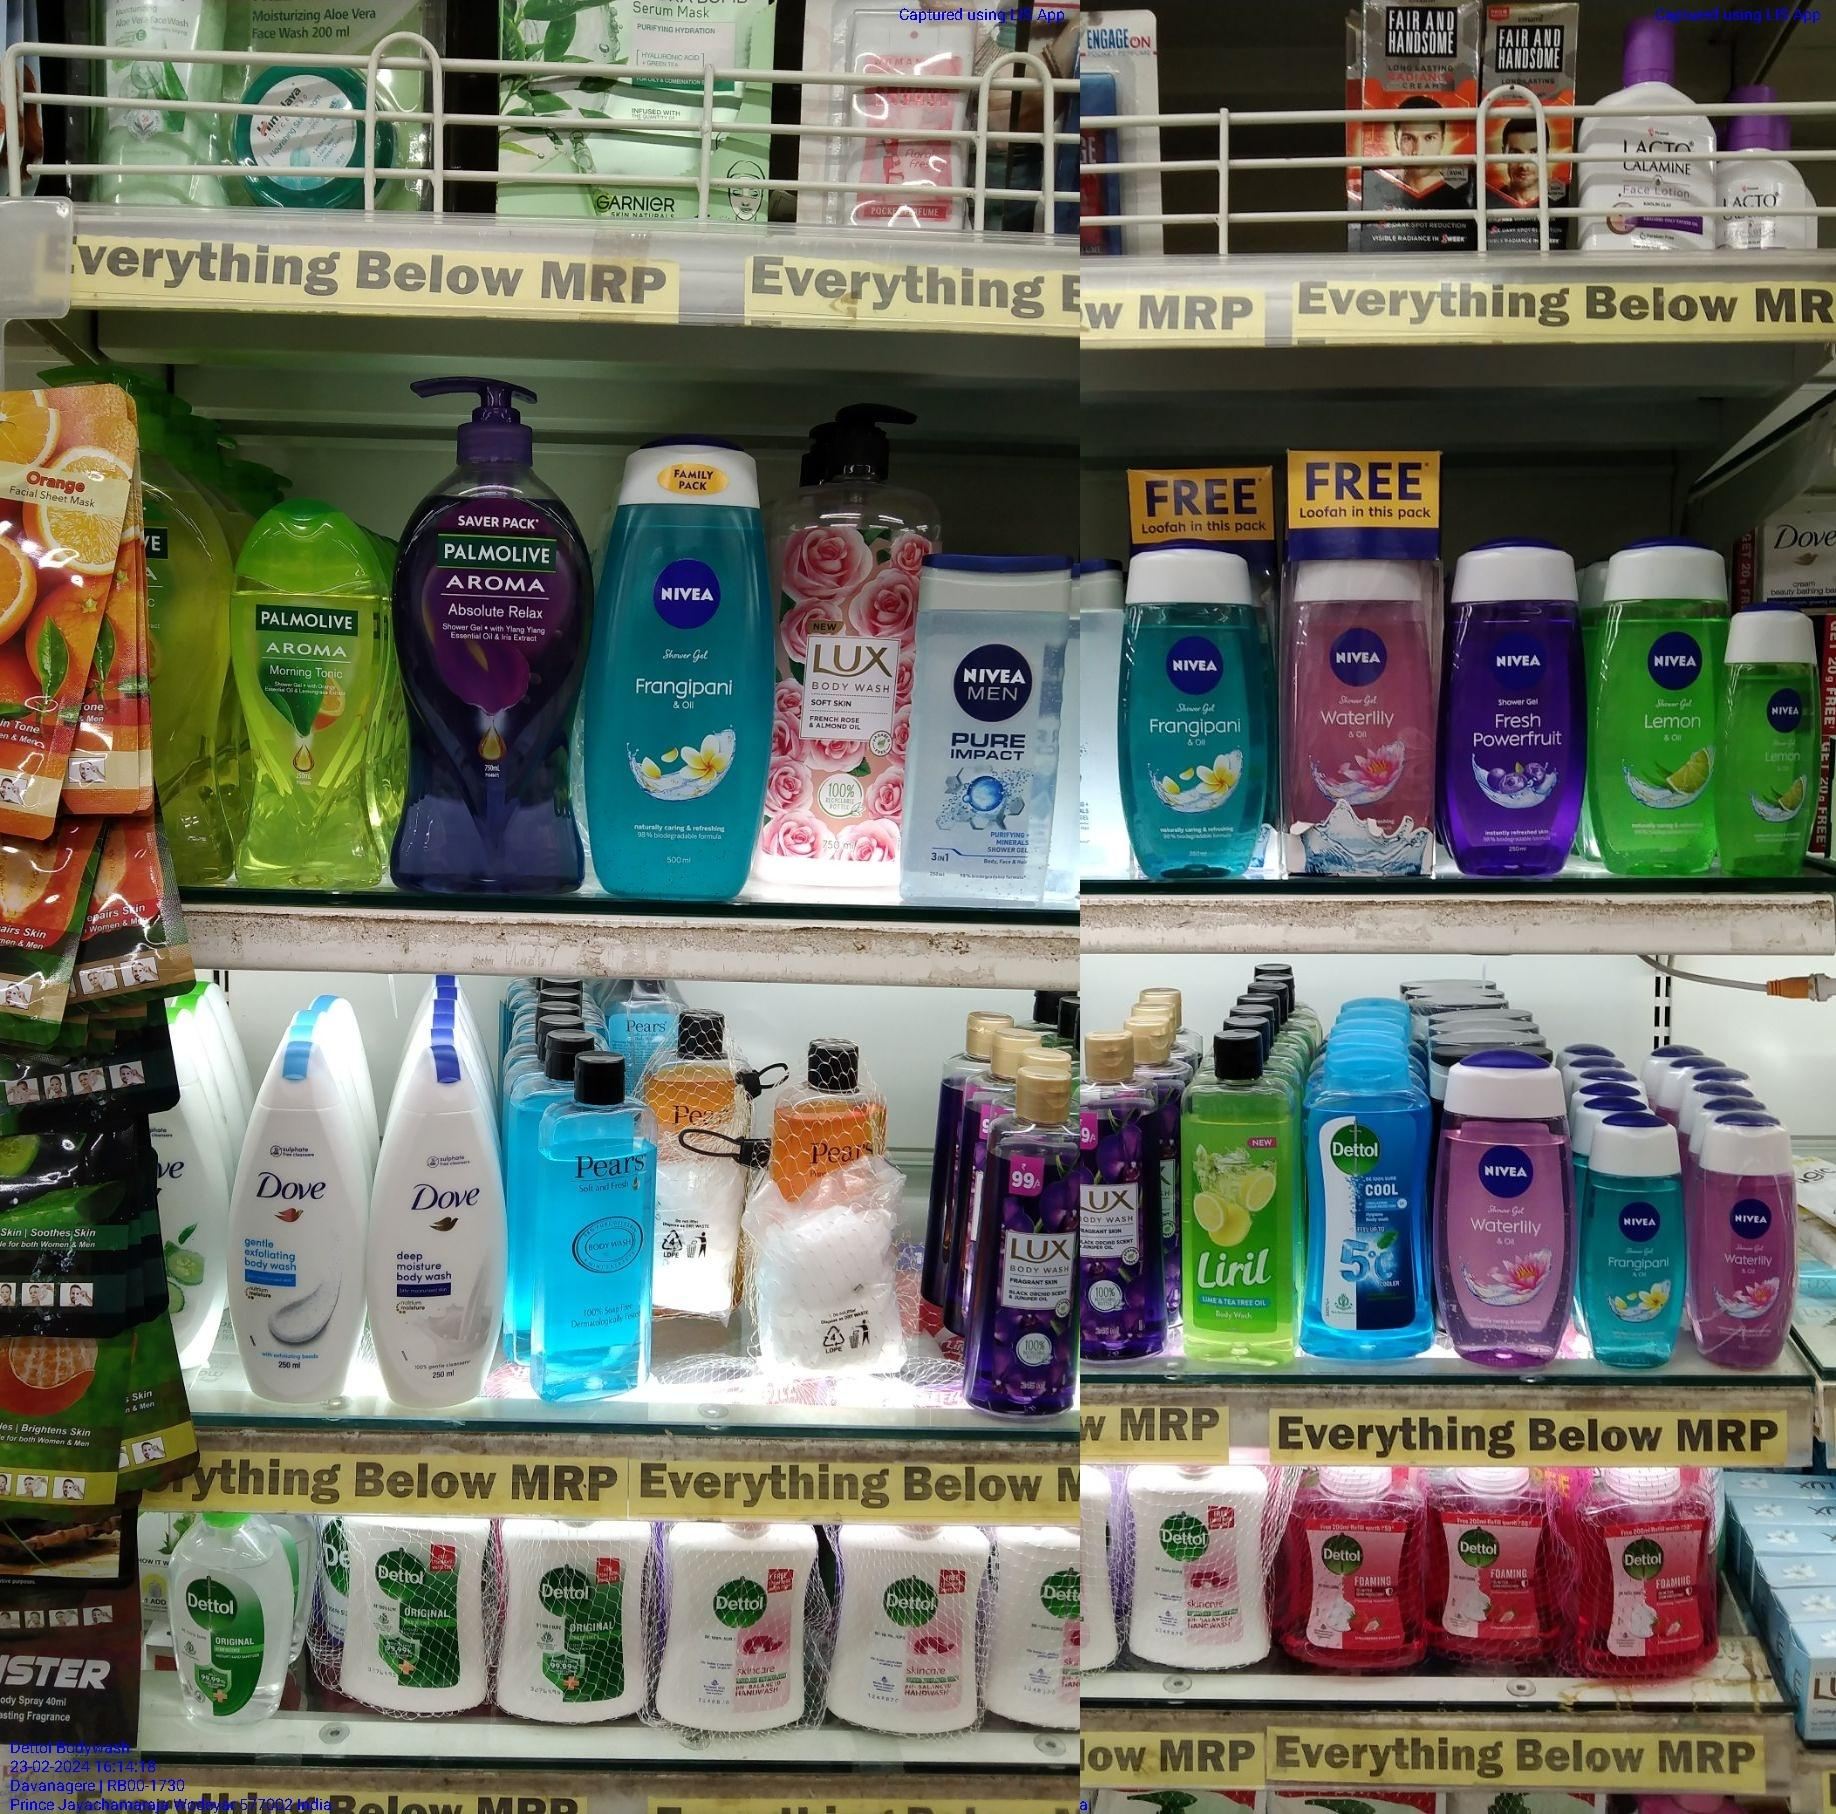Dettol_Bodywash_Cool: (1304, 1065, 1434, 1360)
Dove_Deep_Moisture_Body_Wash_250ML: (374, 1061, 503, 1405)
Dove_Gentle_Exfoliating_Body_Wash_250ML: (234, 1053, 364, 1405)
Liril_Lime_and_Tea_Tree_Oil_Body_Wash_250ML: (1181, 1038, 1303, 1364)
Lux_Black_Orchid_Scent_and_Juniper_Oil_Body_Wash_245ML: (972, 1081, 1087, 1424)
Nivea_Shower_Gel_Frangipani_and_Oil_250ML: (590, 449, 768, 899), (1120, 552, 1269, 882), (1583, 1131, 1686, 1369)
Nivea_Shower_Gel_Fresh_Powerfruit_250ML: (1444, 547, 1588, 879)
Nivea_Shower_Gel_Lemon_and_Oil_250ML: (1597, 548, 1721, 869), (1730, 611, 1818, 874)
Nivea_Shower_Gel_Waterlily_and_Oil_250ML: (1284, 552, 1436, 879), (1437, 1068, 1573, 1364), (1695, 1131, 1799, 1364)
Palmolive_Aroma_Morning_Tonic_Shower_Gel_250ML: (226, 520, 390, 892)
Pears_Pure_Glycerin_and_Mint_Extracts_Body_Wash_250ML: (537, 1061, 656, 1402)
